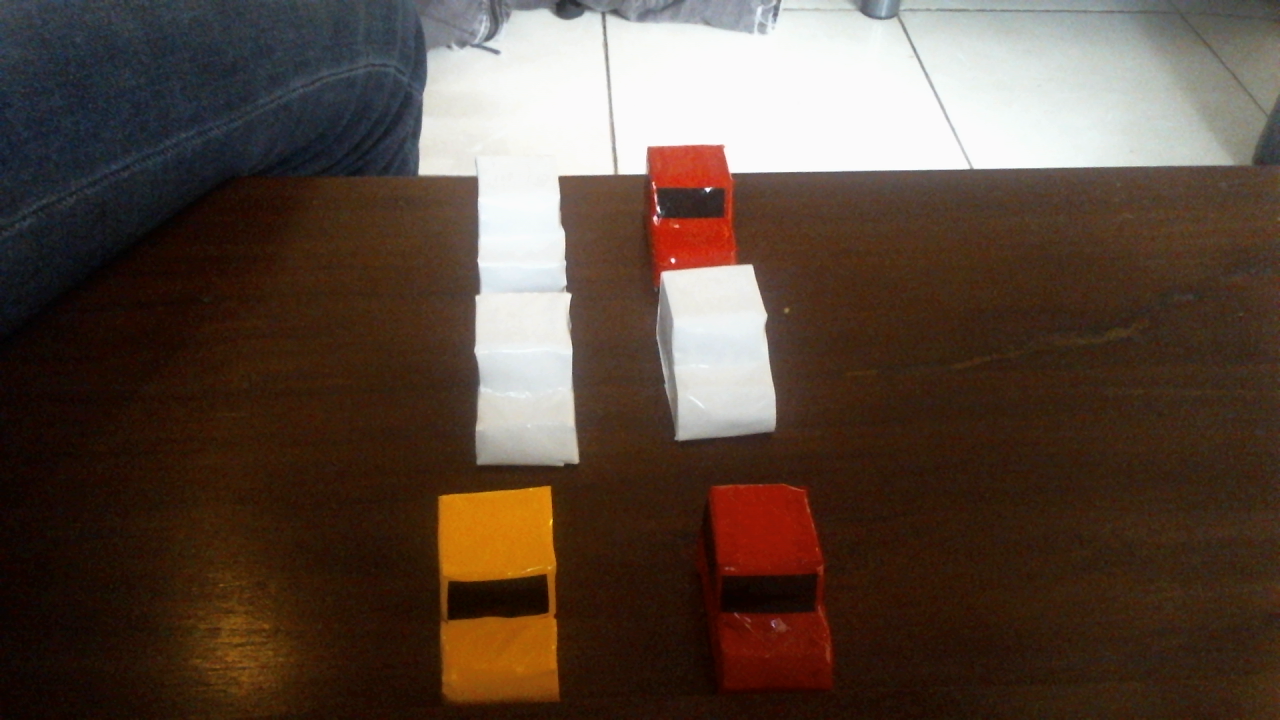Kijang Kapsul: (404, 475, 594, 717)
